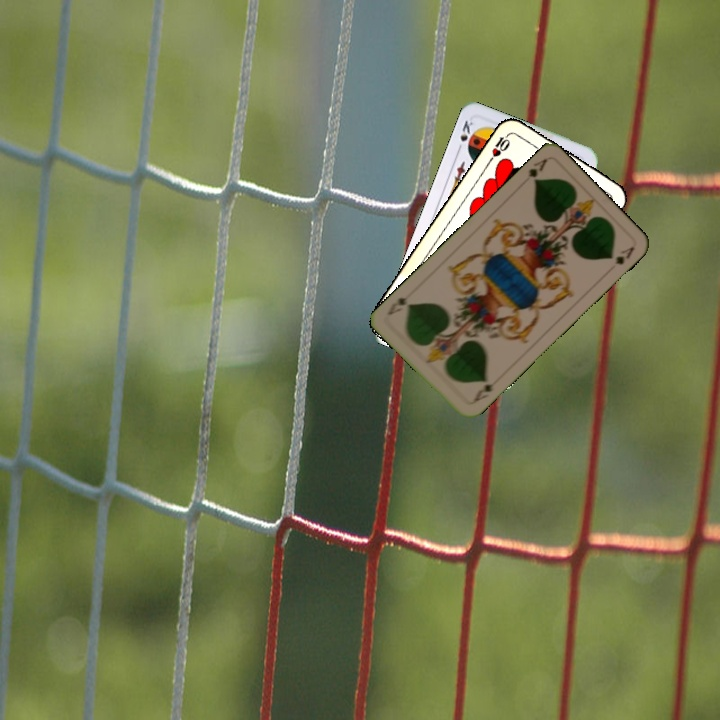GA: (467, 375, 501, 407), (524, 155, 550, 185)
H10: (484, 129, 513, 165)
SK: (453, 115, 475, 154)
